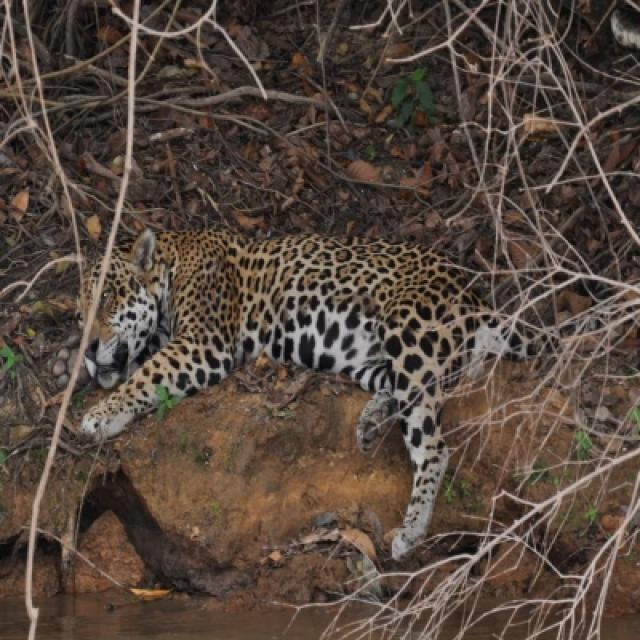Jaguar: (70, 230, 514, 558)
